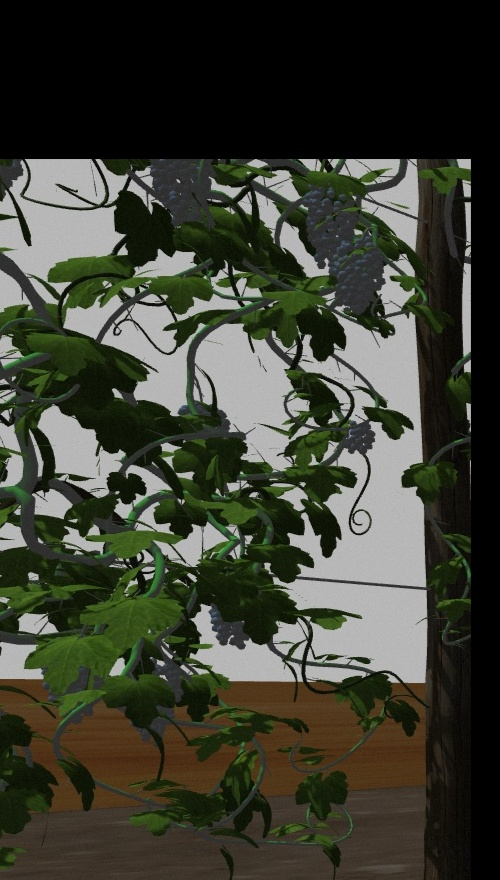grape: (303, 184, 362, 270), (146, 162, 215, 227), (333, 240, 388, 319), (341, 421, 375, 457)
